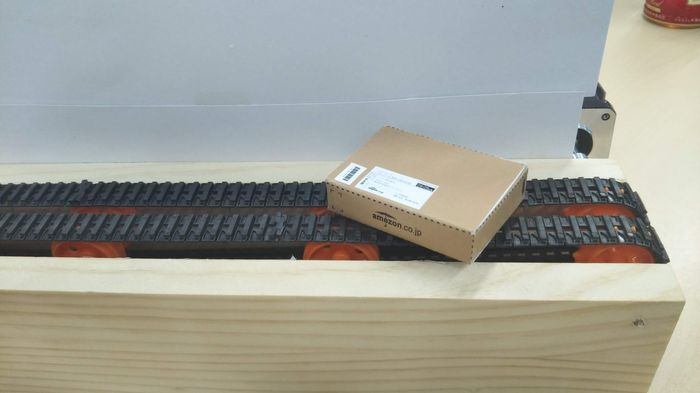box2: (322, 118, 529, 266)
